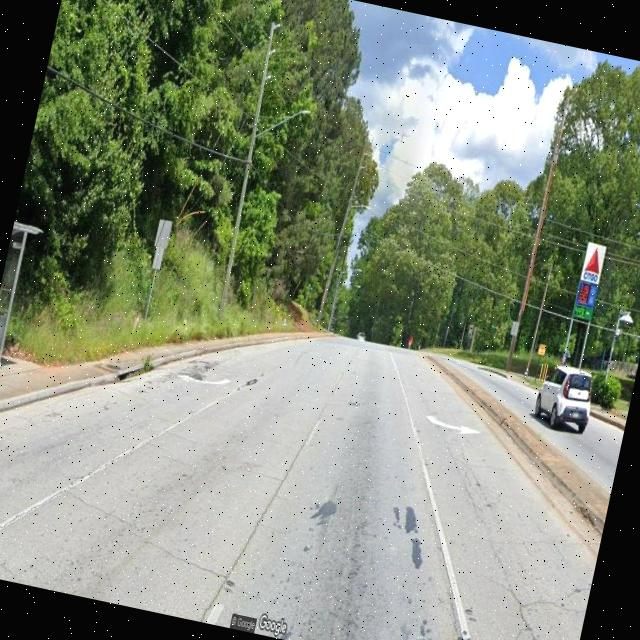shelter: (0, 220, 45, 378)
trash_can: (0, 308, 8, 363)
